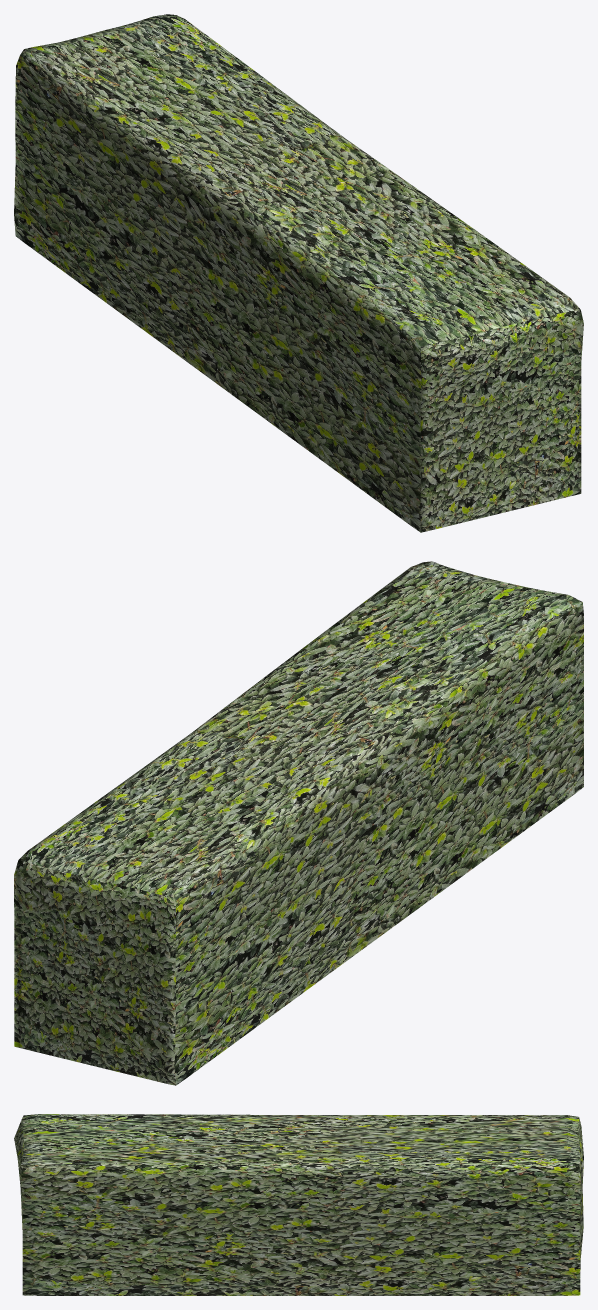
Rendered from HedgeLowPoly.fbx.
3 views of the same model, one above another, from view 1: azimuth 30°, elevation 25°; view 2: azimuth 150°, elevation 25°; view 3: azimuth 270°, elevation 25° (orthographic). The views are drawn at different scales.
Visible parts, largest first — view 1: hedgePiece; view 2: hedgePiece; view 3: hedgePiece.
Boxes of the visible parts, <box> form: hedgePiece: <box>14,14,583,532</box>; hedgePiece: <box>14,561,583,1085</box>; hedgePiece: <box>14,1114,583,1295</box>.
Size of the model in its own units: 235 by 256 by 1000.
Materials: 1 (1 with a texture image).
